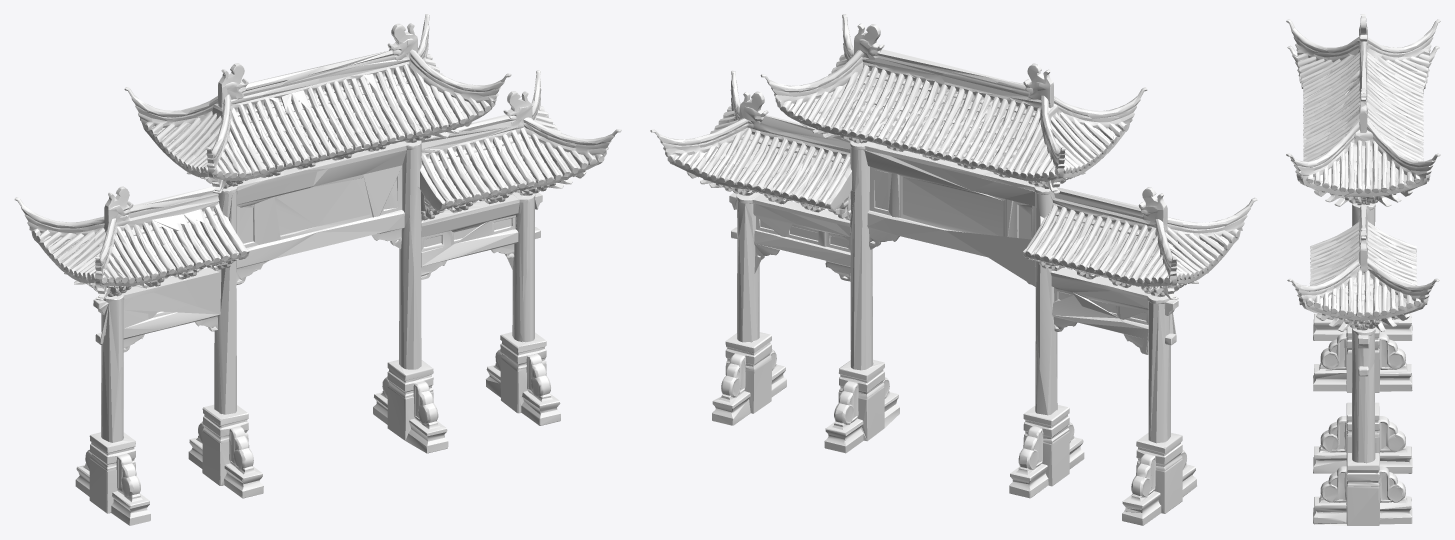
File: paifang_gate.glb
3 renders of one model, left to right at view 1: azimuth 30°, elevation 25°; view 2: azimuth 150°, elevation 25°; view 3: azimuth 270°, elevation 25°, orthographic. The views are drawn at different scales.
Parts seen in each view (by area): view 1: Mesh_0; view 2: Mesh_0; view 3: Mesh_0.
Part boxes in pixels (left/top/right/bottom): Mesh_0: left=14, top=14, right=621, bottom=525; Mesh_0: left=650, top=14, right=1257, bottom=525; Mesh_0: left=1286, top=14, right=1440, bottom=525.
Size of the model in its own units: 13 by 9.67 by 3.62.
1 material, 1 textured.
